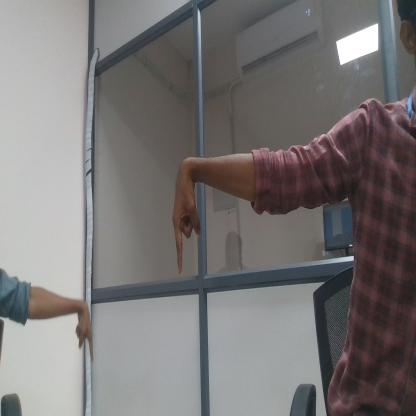Down: (165, 149, 214, 304)
